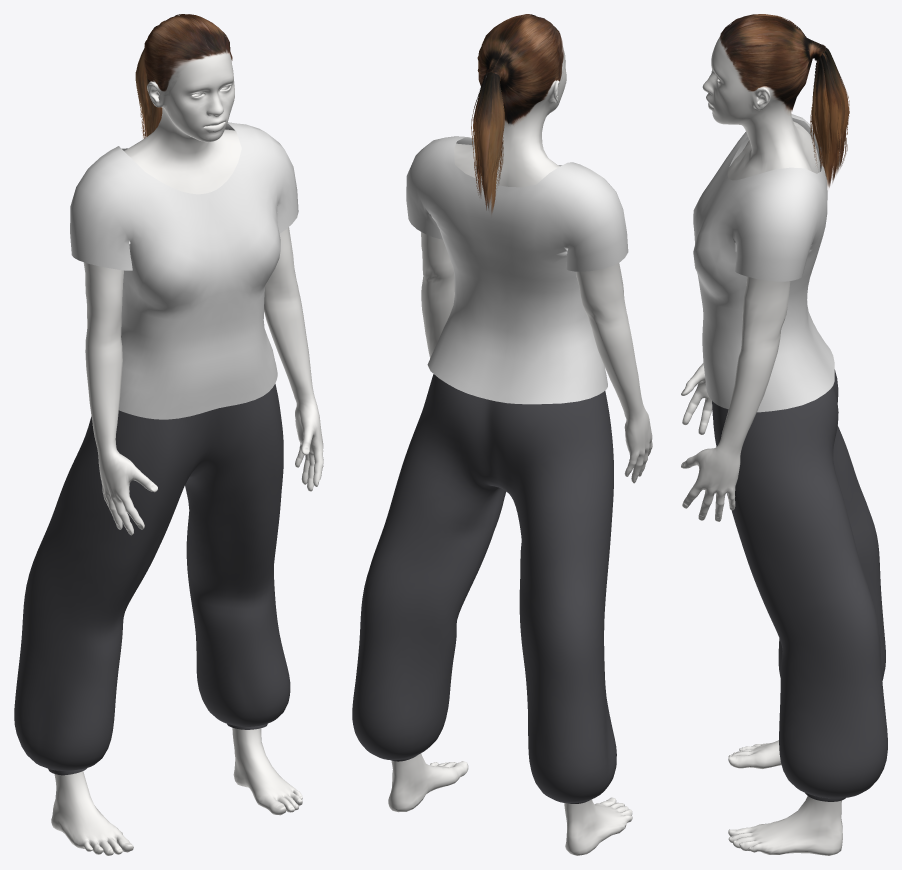
The model's file is mannequin-female-relaxed.glb.
The picture shows the model from 3 angles, left to right: view 1: azimuth 30°, elevation 25°; view 2: azimuth 150°, elevation 25°; view 3: azimuth 270°, elevation 25°; orthographic projection. The views are drawn at different scales.
Parts seen in each view (by area): view 1: Pants, Shirt, Body, Hair; view 2: Pants, Shirt, Body, Hair; view 3: Pants, Shirt, Body, Hair.
Part boxes in pixels (x1,y1,x2,y2): Pants: [14, 384, 290, 775]; Shirt: [70, 122, 298, 419]; Body: [51, 50, 323, 855]; Hair: [135, 14, 232, 138]; Pants: [352, 374, 616, 803]; Shirt: [406, 136, 628, 404]; Body: [388, 41, 652, 855]; Hair: [471, 14, 563, 214]; Pants: [712, 369, 887, 801]; Shirt: [693, 114, 834, 412]; Body: [681, 36, 842, 855]; Hair: [720, 14, 849, 187].
Size of the model in its own units: 0.5402 by 1.64 by 0.3883.
4 materials, 1 textured.
